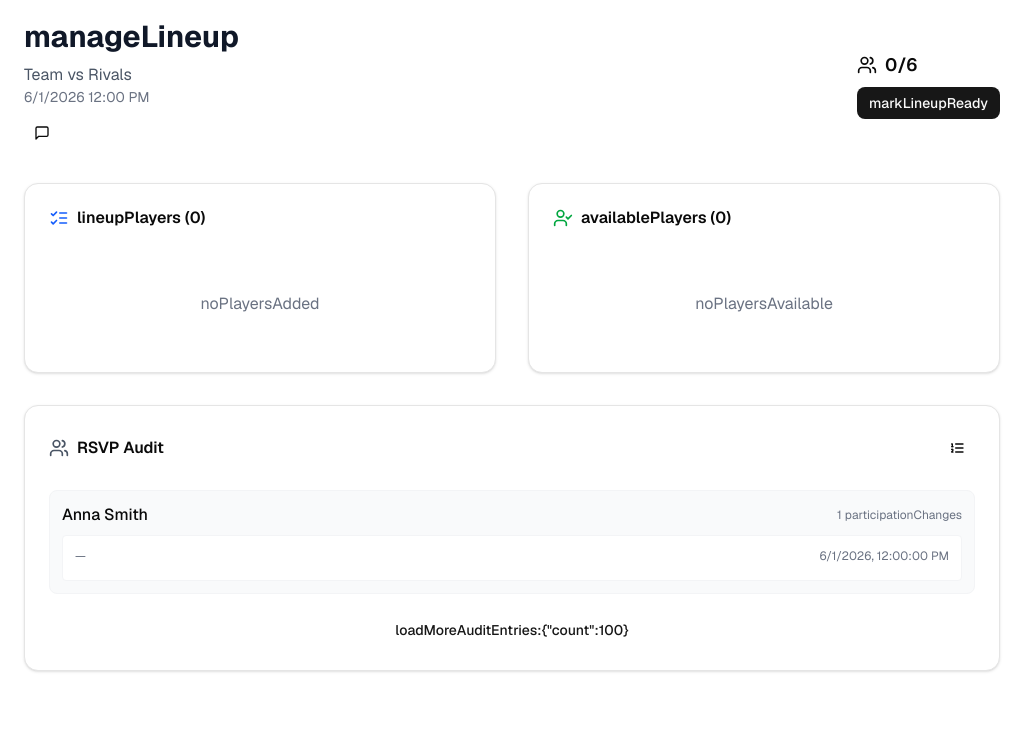
it: lineup audit pagination › loads older entries by offset and appends them
This screenshot has width=1024, height=755.
Click the button "loadMoreAuditEntries:{\"count\":100}".
click(512, 630)  # box [383,614,641,646]
(page scrolled)
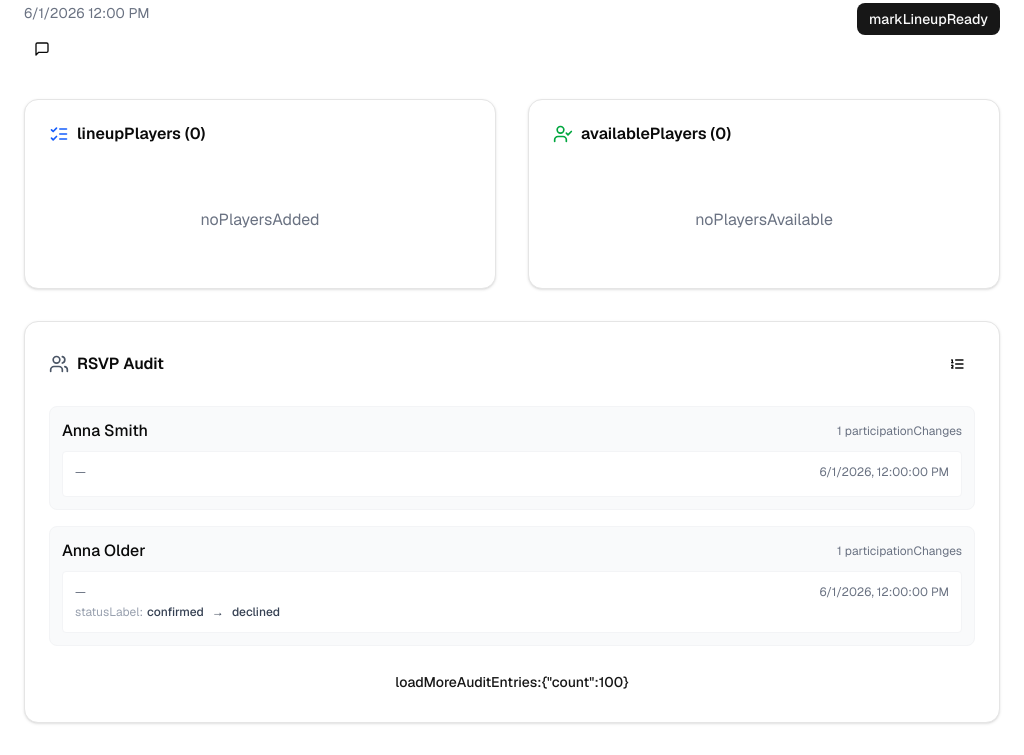
Expected: the text "Anna Older" is shown, [62,539,145,563]
Click the button "loadMoreAuditEntries:{\"count\":100}".
click(512, 682)  # box [383,666,641,698]
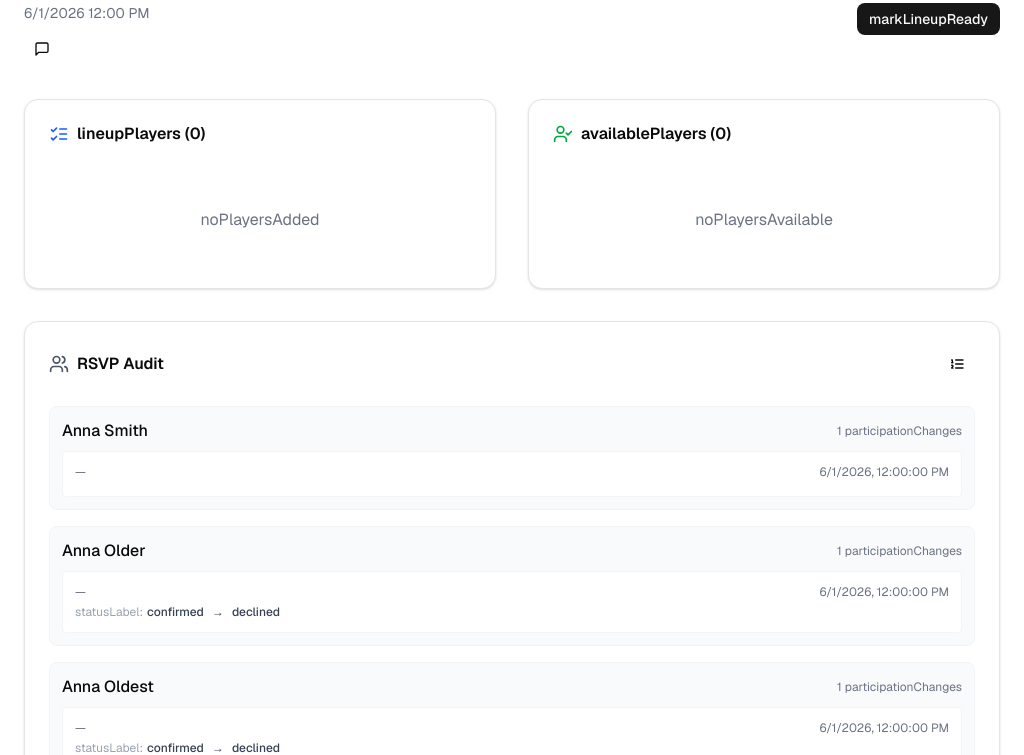
Expected: the text "Anna Smith" is shown, [62,419,148,443]
Expected: the text "Anna Oldest" is shown, [62,675,154,699]
Expected: the button "loadMoreAuditEntries:{\"count\":100}" is gone
